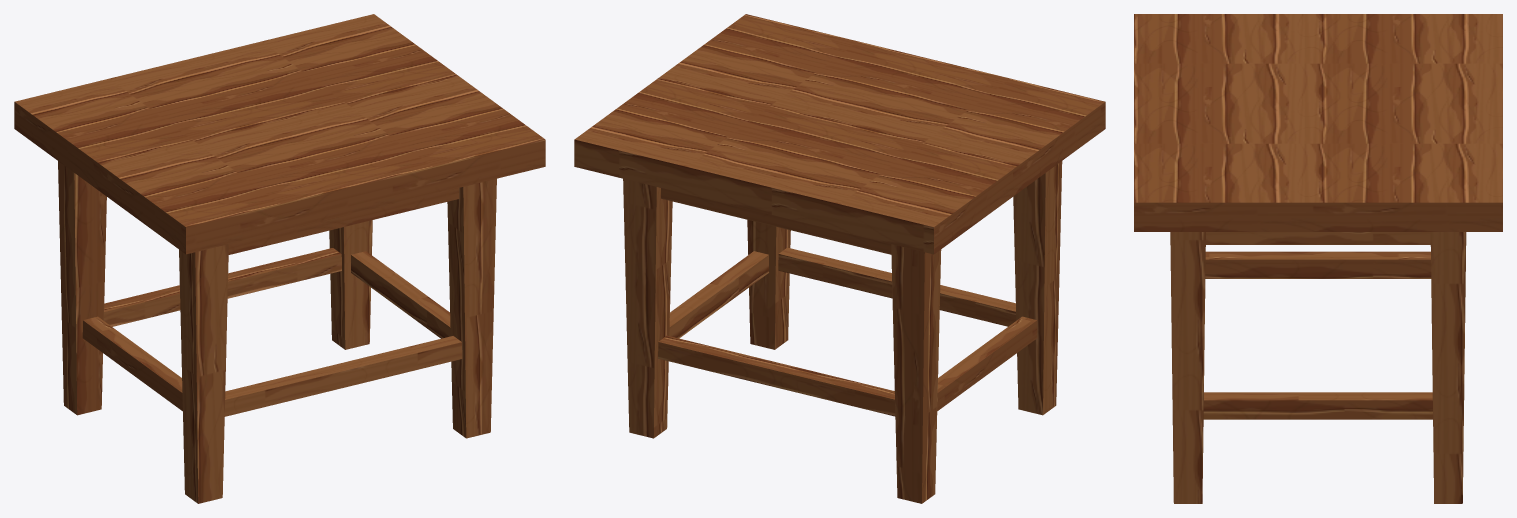
Rendered from FRM0510012.fbx.
3 views of the same model, side by side, from view 1: azimuth 30°, elevation 25°; view 2: azimuth 150°, elevation 25°; view 3: azimuth 270°, elevation 25° (orthographic). The views are drawn at different scales.
Parts seen in each view (by area): view 1: smFRM0510012; view 2: smFRM0510012; view 3: smFRM0510012.
Part boxes in pixels (<box>): smFRM0510012: <box>14,14,545,503</box>; smFRM0510012: <box>574,14,1105,503</box>; smFRM0510012: <box>1134,14,1502,503</box>.
Bounding box in the file's own units: 112 × 88.88 × 92.76.
Materials: 1 (1 with a texture image).
